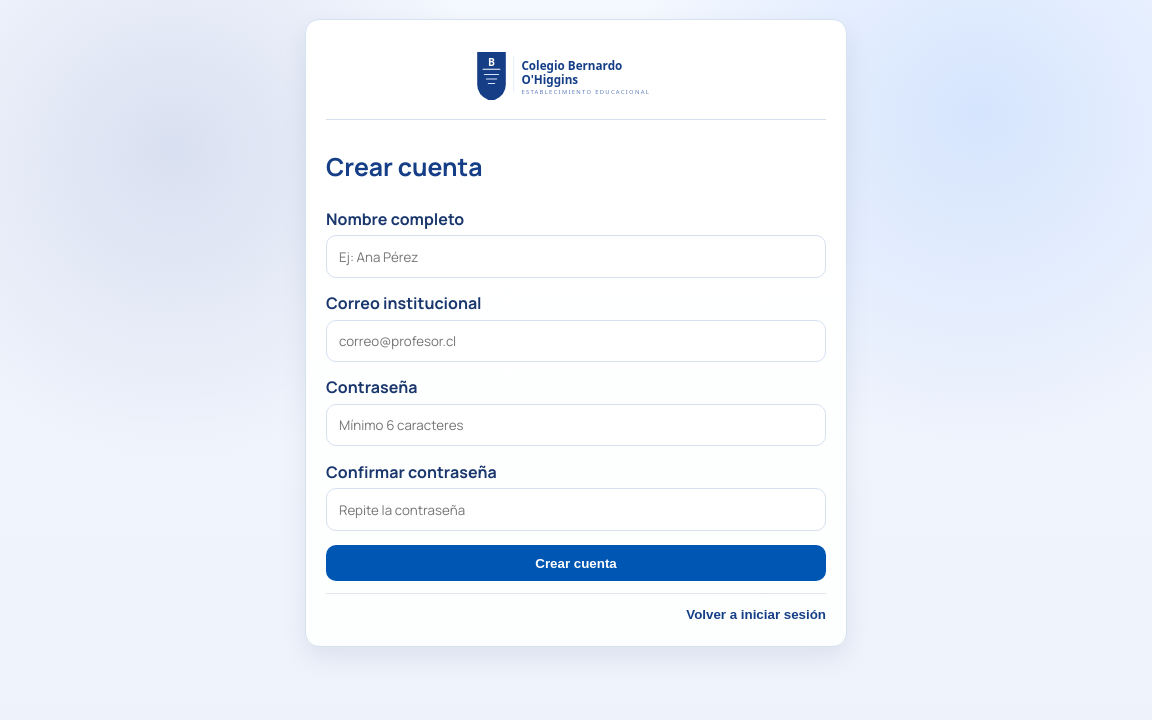
Test case: Register — validaciones al enviar › muestra errores cuando todos los campos están vacíos
Click the button "Crear cuenta".
click(576, 563)  # box [326,545,826,581]
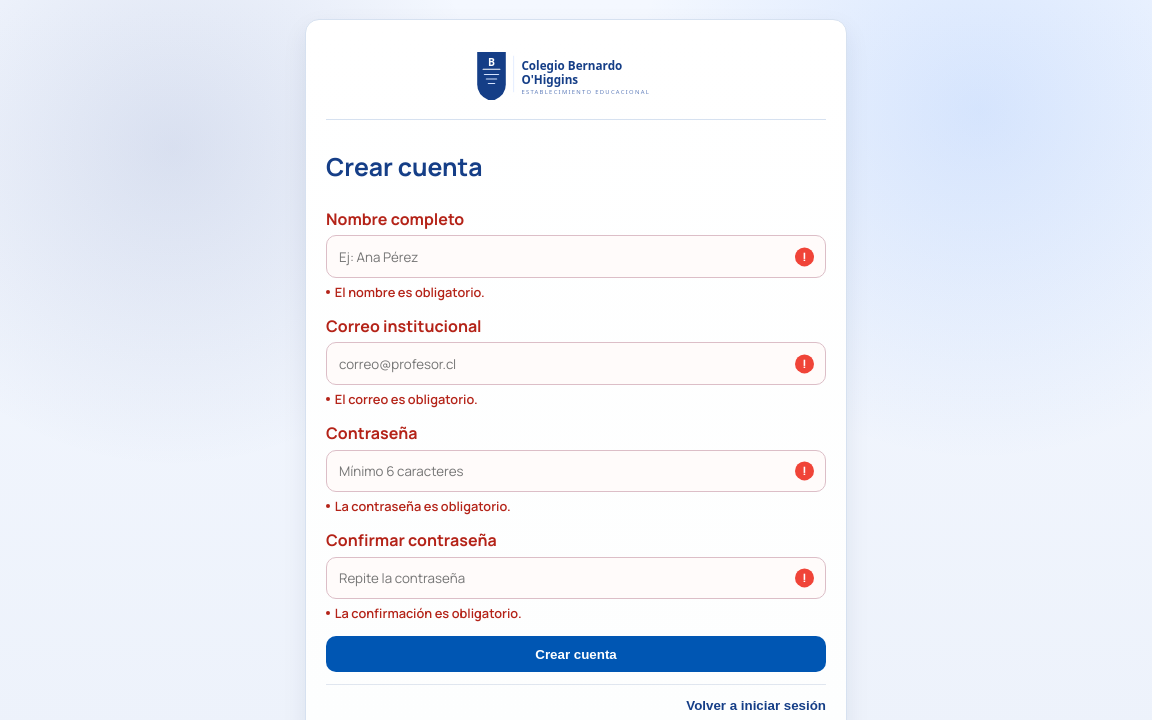
Now the text "El nombre es obligatorio." is shown, box [335,282,485,300]
